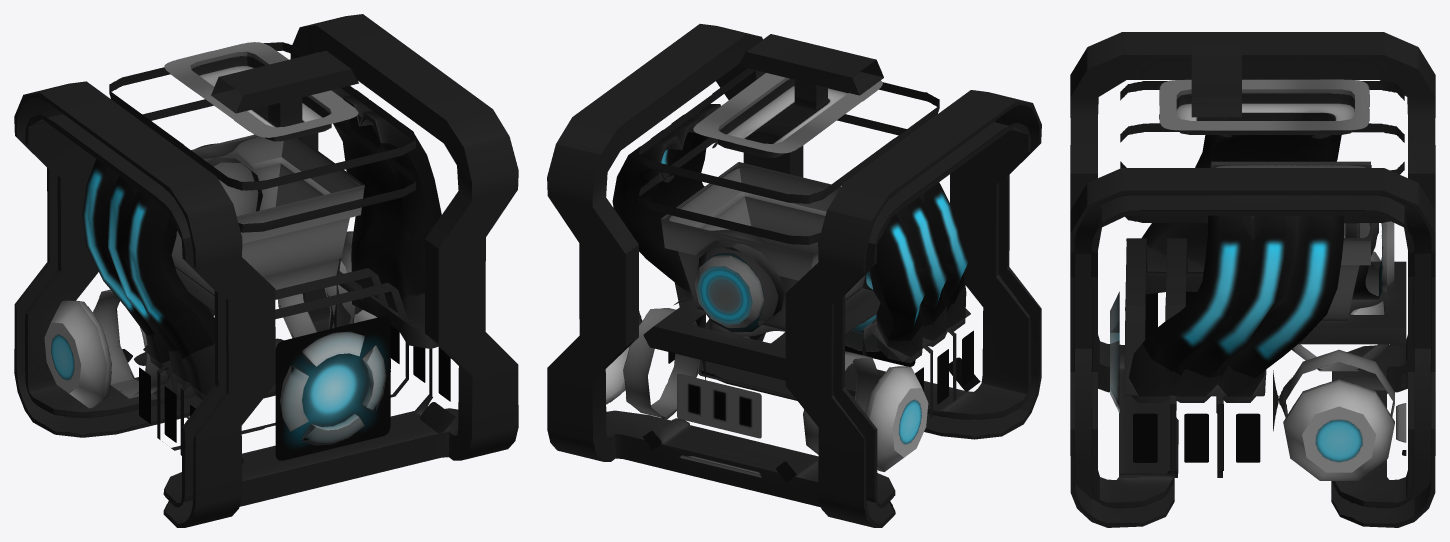
File: obj_interactive_gasengine_04_on.fbx
3 renders of one model, left to right at view 1: azimuth 30°, elevation 25°; view 2: azimuth 150°, elevation 25°; view 3: azimuth 270°, elevation 25°, orthographic. The views are drawn at different scales.
Parts seen in each view (by area): view 1: obj_interactive_gasengine_04_on; view 2: obj_interactive_gasengine_04_on; view 3: obj_interactive_gasengine_04_on.
Boxes of the visible parts, x1,y1,x2,y2 form: obj_interactive_gasengine_04_on: (14, 14, 518, 527); obj_interactive_gasengine_04_on: (547, 24, 1041, 527); obj_interactive_gasengine_04_on: (1070, 32, 1435, 527).
Bounding box in the file's own units: 2.01 × 2.33 × 1.95.
